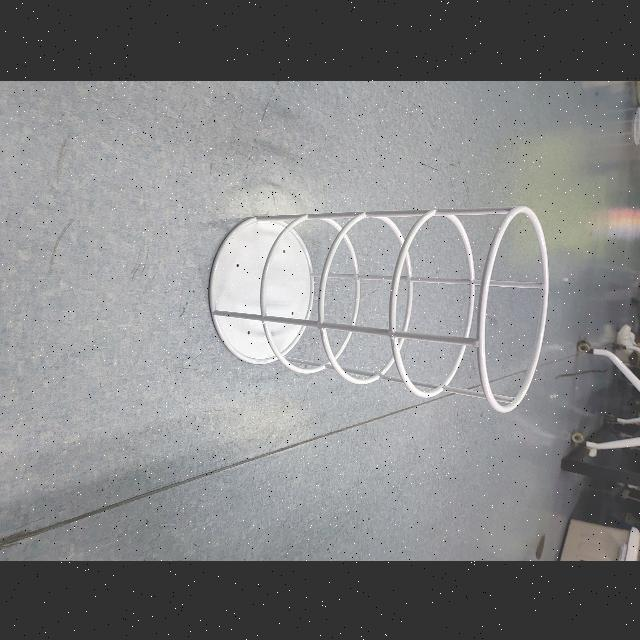S: (199, 196, 556, 418)
